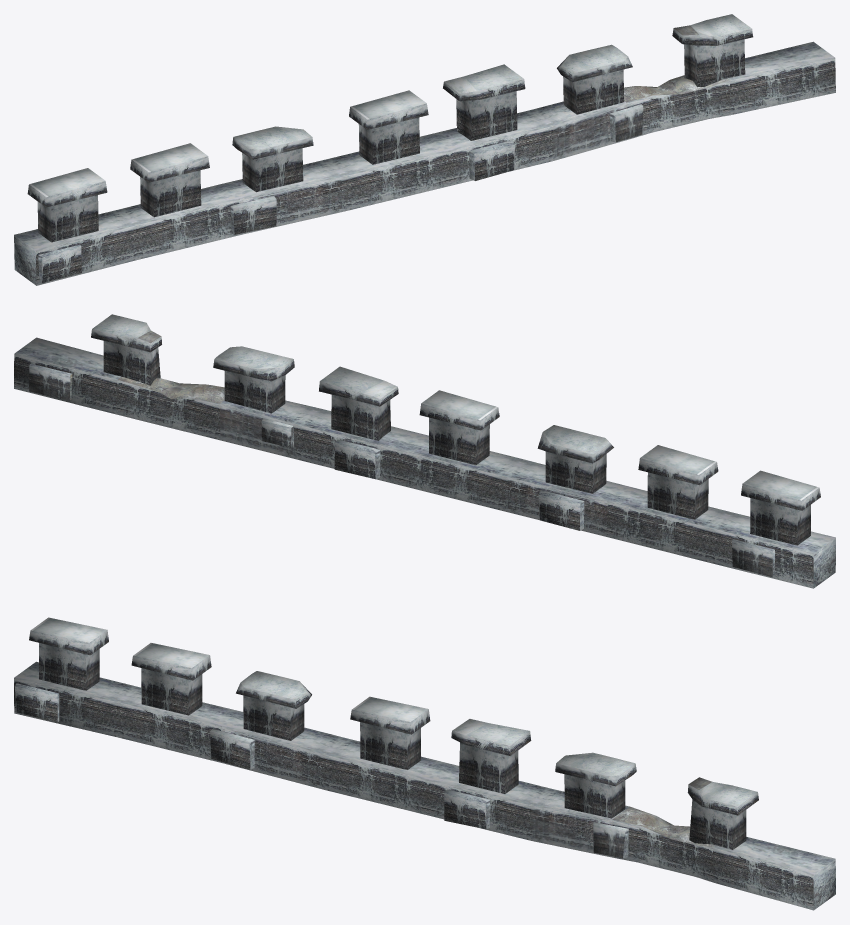
File: S_Build_Snowland160.FBX
3 renders of one model, top to bottom at view 1: azimuth 30°, elevation 25°; view 2: azimuth 150°, elevation 25°; view 3: azimuth 330°, elevation 25°, orthographic.
Parts seen in each view (by area): view 1: S_Build_Snowland160; view 2: S_Build_Snowland160; view 3: S_Build_Snowland160.
Part boxes in pixels (x1=…): S_Build_Snowland160: x1=14, y1=14, x2=835, y2=285; S_Build_Snowland160: x1=14, y1=314, x2=835, y2=588; S_Build_Snowland160: x1=14, y1=617, x2=835, y2=910.
Bounding box in the file's own units: 1284 × 87.29 × 133.
